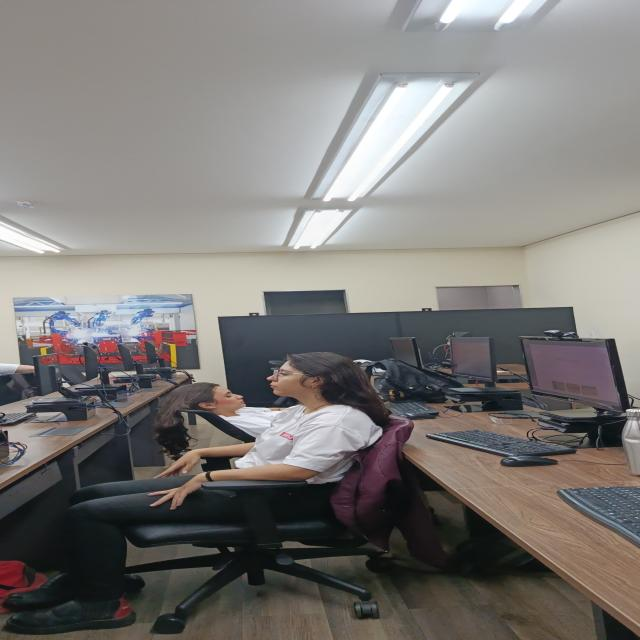sem_oculos: (273, 371, 312, 380), (215, 393, 241, 399)
